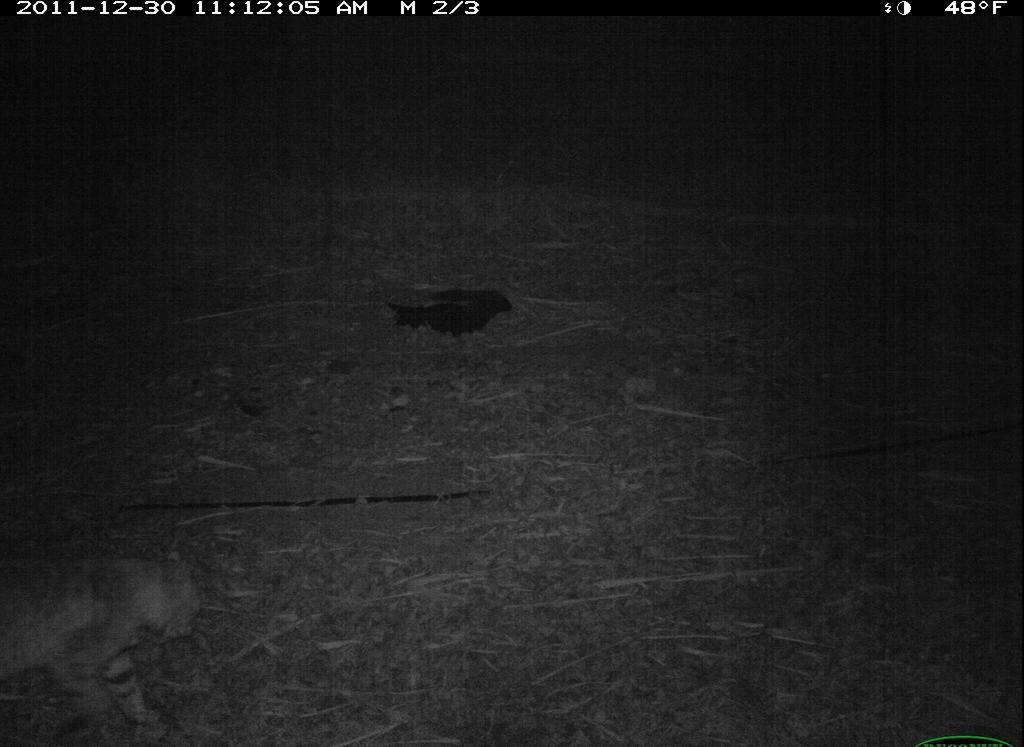bobcat: (7, 538, 214, 737)
